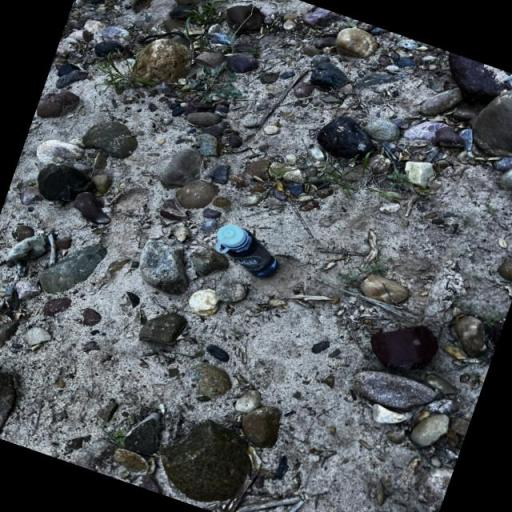bottle: (202, 216, 291, 286)
